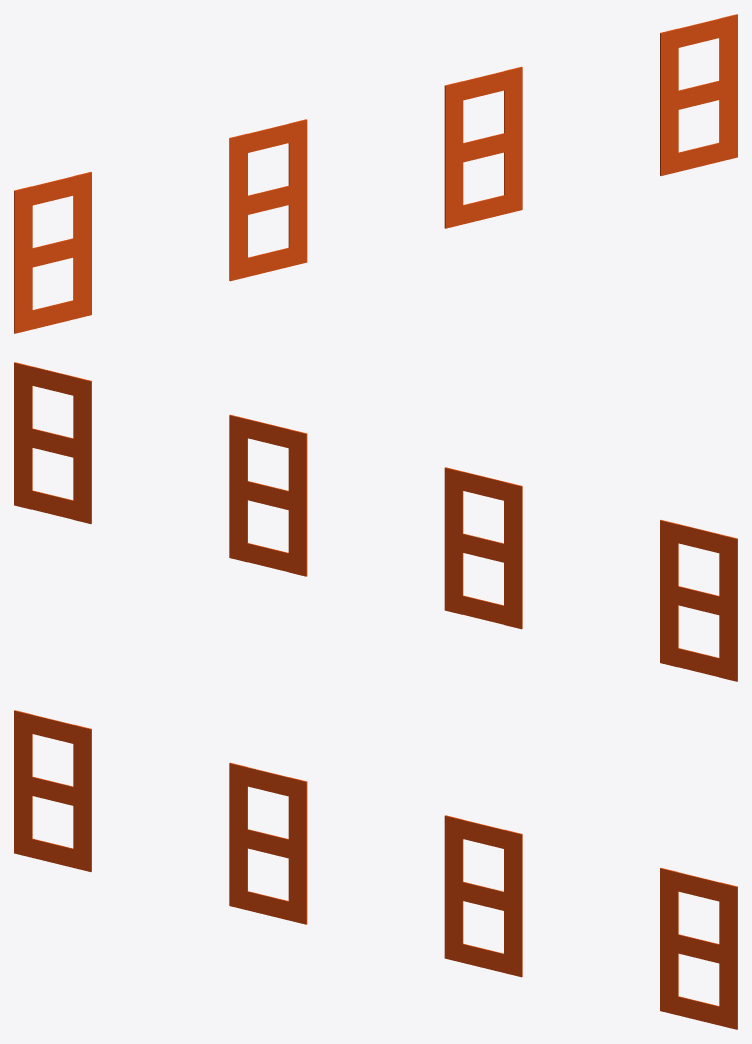
Rendered from keypad_digits.obj.
3 renders of one model, top to bottom at view 1: azimuth 30°, elevation 25°; view 2: azimuth 150°, elevation 25°; view 3: azimuth 330°, elevation 25°, orthographic.
Visible parts, largest first — view 1: D4_A, D3_A, D2_A, D2_G, D1_A, D2_D, D3_E, D4_D, D2_C, D1_C, D4_C, D1_B (+16 smaller); view 2: D2_C, D2_B, D3_F, D3_E, D4_B, D2_F, D1_B, D1_C, D2_E, D4_C, D3_B, D3_C (+16 smaller); view 3: D2_A, D4_A, D2_D, D2_G, D4_D, D3_F, D1_A, D3_E, D4_G, D3_C, D3_B, D1_B (+16 smaller).
Boxes of the visible parts, <box> form: D4_A: <box>14,172,91,209</box>; D3_A: <box>230,119,307,157</box>; D2_A: <box>445,67,522,104</box>; D2_G: <box>445,129,522,166</box>; D1_A: <box>660,14,737,51</box>; D2_D: <box>445,191,522,227</box>; D3_E: <box>288,191,307,266</box>; D4_D: <box>14,296,91,332</box>; D2_C: <box>444,154,463,228</box>; D1_C: <box>660,100,678,175</box>; D4_C: <box>14,258,32,333</box>; D1_B: <box>660,28,678,104</box>; D2_C: <box>288,501,307,576</box>; D2_B: <box>288,429,307,505</box>; D3_F: <box>444,467,463,543</box>; D3_E: <box>444,539,463,614</box>; D4_B: <box>719,534,737,610</box>; D2_F: <box>229,415,247,490</box>; D1_B: <box>73,377,91,452</box>; D1_C: <box>73,448,91,523</box>; D2_E: <box>229,486,247,562</box>; D4_C: <box>719,606,737,681</box>; D3_B: <box>504,481,522,557</box>; D3_C: <box>504,553,522,629</box>; D2_A: <box>444,815,522,853</box>; D4_A: <box>14,710,91,747</box>; D2_D: <box>445,940,522,977</box>; D2_G: <box>444,878,521,914</box>; D4_D: <box>14,835,91,871</box>; D3_F: <box>288,777,307,853</box>; D1_A: <box>660,868,737,905</box>; D3_E: <box>288,849,307,924</box>; D4_G: <box>14,773,91,809</box>; D3_C: <box>229,834,247,910</box>; D3_B: <box>229,762,247,838</box>; D1_B: <box>660,868,678,943</box>.
Size of the model in its own units: 0.5037 by 0.095 by 0.001.
Materials: 1 (1 with a texture image).
